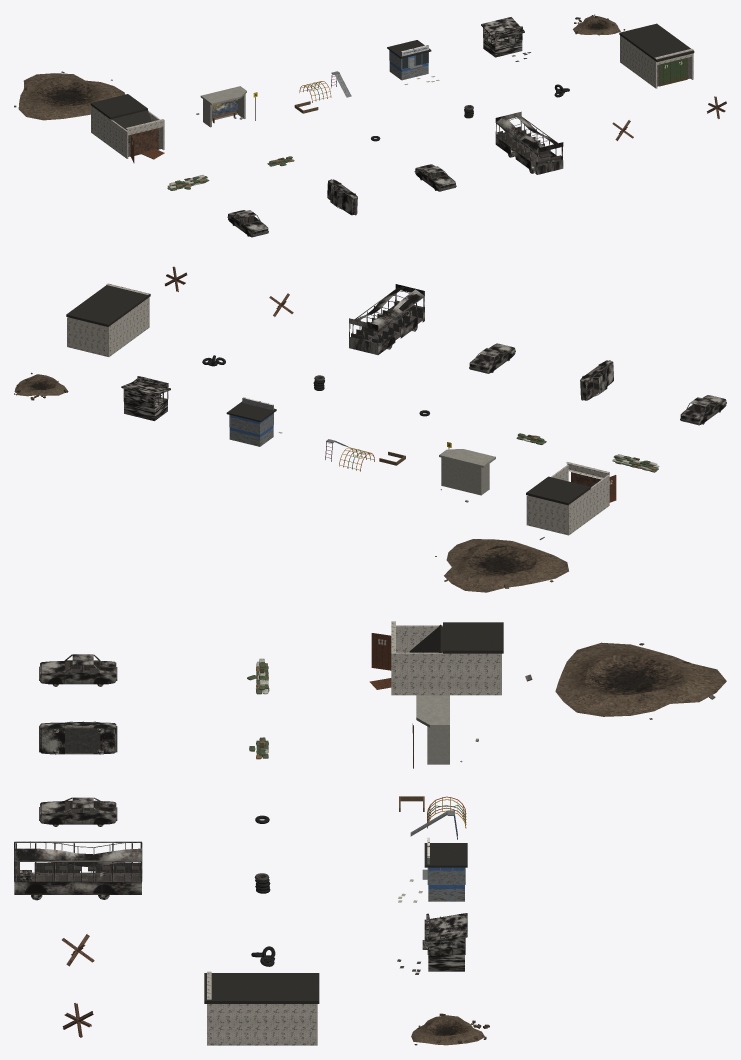
The model's file is props.glb.
The picture shows the model from 3 angles, top to bottom: view 1: azimuth 30°, elevation 25°; view 2: azimuth 150°, elevation 25°; view 3: azimuth 270°, elevation 25°; orthographic projection. The views are drawn at different scales.
Parts seen in each view (by area): view 1: garage_unit_damaged, garage_unit, crater_large_asphalt, bus_paz_burnt, kiosk_press, kiosk_burnt, bus_stop, car_vaz2107_wreck_side, car_vaz2107_burnt, crater_small, car_vaz2107_burnt_sagged, playground_climbing_frame; view 2: crater_large_asphalt, garage_unit_damaged, garage_unit, bus_paz_burnt, bus_stop, kiosk_press, kiosk_burnt, car_vaz2107_wreck_side, car_vaz2107_burnt, crater_small, car_vaz2107_burnt_sagged, playground_climbing_frame; view 3: crater_large_asphalt, garage_unit_damaged, garage_unit, bus_paz_burnt, car_vaz2107_wreck_side, kiosk_press, kiosk_burnt, car_vaz2107_burnt, bus_stop, car_vaz2107_burnt_sagged, crater_small, playground_climbing_frame.
Part boxes in pixels (x1,y1,x2,y2): garage_unit_damaged: (90, 94, 164, 163); garage_unit: (619, 23, 694, 88); crater_large_asphalt: (14, 71, 125, 120); bus_paz_burnt: (495, 111, 563, 174); kiosk_press: (387, 40, 439, 84); kiosk_burnt: (481, 17, 530, 61); bus_stop: (196, 86, 257, 127); car_vaz2107_wreck_side: (327, 179, 357, 215); car_vaz2107_burnt: (227, 210, 268, 237); crater_small: (573, 14, 625, 35); car_vaz2107_burnt_sagged: (414, 164, 456, 191); playground_climbing_frame: (294, 71, 351, 113); crater_large_asphalt: (435, 537, 568, 592); garage_unit_damaged: (526, 462, 616, 535); garage_unit: (66, 283, 150, 356); bus_paz_burnt: (349, 284, 424, 354); bus_stop: (439, 442, 495, 502); kiosk_press: (226, 397, 282, 446); kiosk_burnt: (121, 376, 170, 420); car_vaz2107_wreck_side: (580, 360, 613, 400); car_vaz2107_burnt: (680, 395, 726, 425); crater_small: (14, 372, 68, 400); car_vaz2107_burnt_sagged: (469, 343, 515, 373); playground_climbing_frame: (325, 439, 405, 471); crater_large_asphalt: (525, 642, 726, 719); garage_unit_damaged: (369, 621, 503, 695); garage_unit: (204, 971, 319, 1045); bus_paz_burnt: (14, 841, 142, 900); car_vaz2107_wreck_side: (39, 721, 117, 754); kiosk_press: (398, 837, 467, 902); kiosk_burnt: (397, 913, 467, 974); car_vaz2107_burnt: (39, 654, 117, 686); bus_stop: (412, 695, 478, 768); car_vaz2107_burnt_sagged: (39, 797, 117, 826); crater_small: (411, 1013, 489, 1045); playground_climbing_frame: (399, 796, 466, 839).
Bounding box in the file's own units: 51.74 × 3 × 38.7.
1 material, 1 textured.
